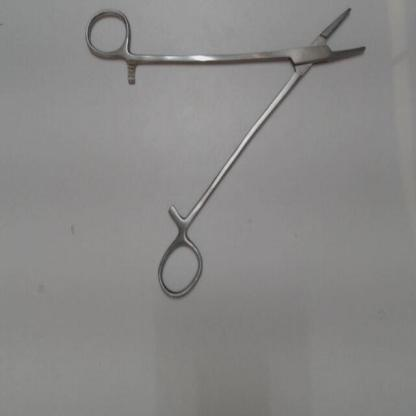8 Mayo Needle Holder: (81, 1, 386, 312)
